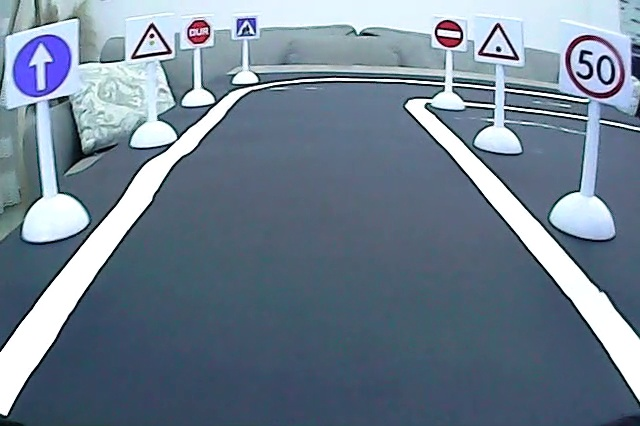do not enter: (433, 19, 466, 51)
green light: (474, 20, 523, 64)
red light: (130, 18, 174, 63)
school crossing: (233, 15, 258, 39)
speed limit 50: (564, 32, 628, 101)
stop sign: (183, 16, 213, 46)
